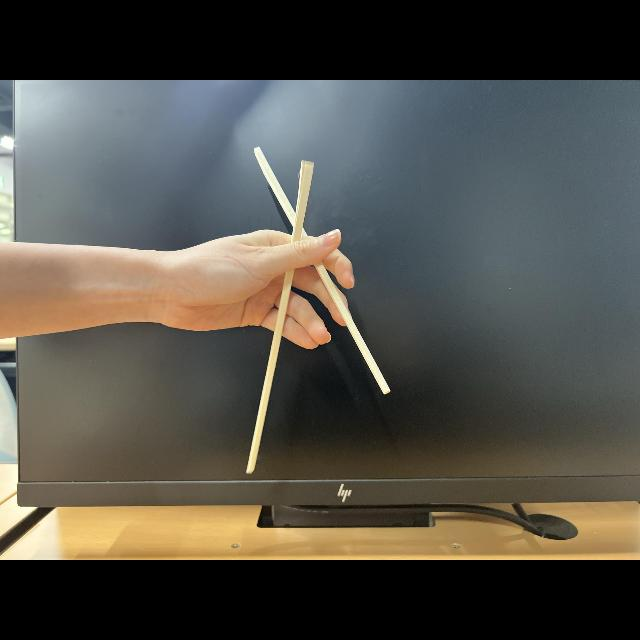stick: (211, 148, 389, 474)
